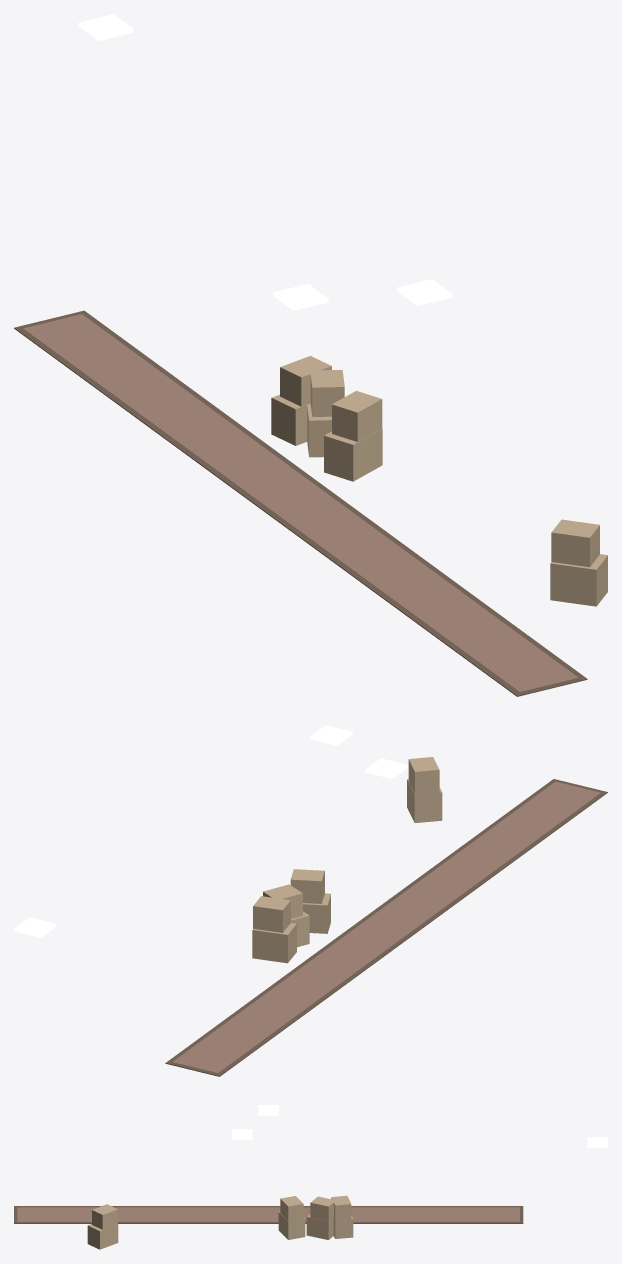
The model's file is fine-s0.glb.
The picture shows the model from 3 angles, top to bottom: view 1: azimuth 30°, elevation 25°; view 2: azimuth 150°, elevation 25°; view 3: azimuth 270°, elevation 25°; orthographic projection. The views are drawn at different scales.
Parts seen in each view (by area): view 1: soft-s0, crate.000, cardboard-box.002, cardboard-box.000, cardboard-box.001, ceiling-lamp.002, ceiling-lamp.000, ceiling-lamp.001; view 2: soft-s0, cardboard-box.000, cardboard-box.002, crate.000, cardboard-box.001, ceiling-lamp.000, ceiling-lamp.001, ceiling-lamp.002; view 3: soft-s0, cardboard-box.002, cardboard-box.001, crate.000, cardboard-box.000, ceiling-lamp.000, ceiling-lamp.001, ceiling-lamp.002.
Boxes of the visible parts, x1,y1,x2,y2 form: soft-s0: [14, 310, 587, 696]; crate.000: [324, 390, 382, 481]; cardboard-box.002: [550, 519, 607, 606]; cardboard-box.000: [271, 356, 331, 445]; cardboard-box.001: [307, 370, 344, 457]; ceiling-lamp.002: [397, 279, 452, 305]; ceiling-lamp.000: [273, 284, 328, 310]; ceiling-lamp.001: [78, 14, 133, 40]; soft-s0: [165, 779, 607, 1076]; cardboard-box.000: [252, 896, 296, 963]; cardboard-box.002: [407, 757, 442, 822]; crate.000: [290, 869, 330, 933]; cardboard-box.001: [263, 884, 309, 947]; ceiling-lamp.000: [365, 758, 407, 778]; ceiling-lamp.001: [14, 917, 56, 937]; ceiling-lamp.002: [310, 725, 352, 745]; soft-s0: [14, 1206, 523, 1223]; cardboard-box.002: [87, 1204, 118, 1249]; cardboard-box.001: [306, 1196, 335, 1239]; crate.000: [278, 1196, 305, 1239]; cardboard-box.000: [331, 1195, 353, 1238]; ceiling-lamp.000: [258, 1105, 278, 1115]; ceiling-lamp.001: [587, 1137, 607, 1147]; ceiling-lamp.002: [232, 1129, 252, 1139].
Size of the model in its own units: 2.6 by 2.83 by 14.45.
